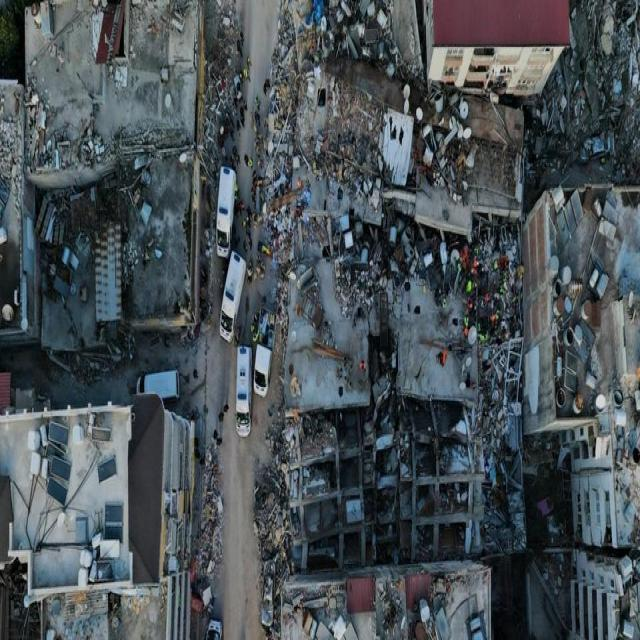Rubble: (281, 12, 420, 302), (424, 104, 524, 316), (341, 309, 421, 558), (442, 330, 526, 555), (262, 340, 316, 570), (576, 5, 638, 174), (201, 0, 232, 149), (196, 456, 220, 566)
